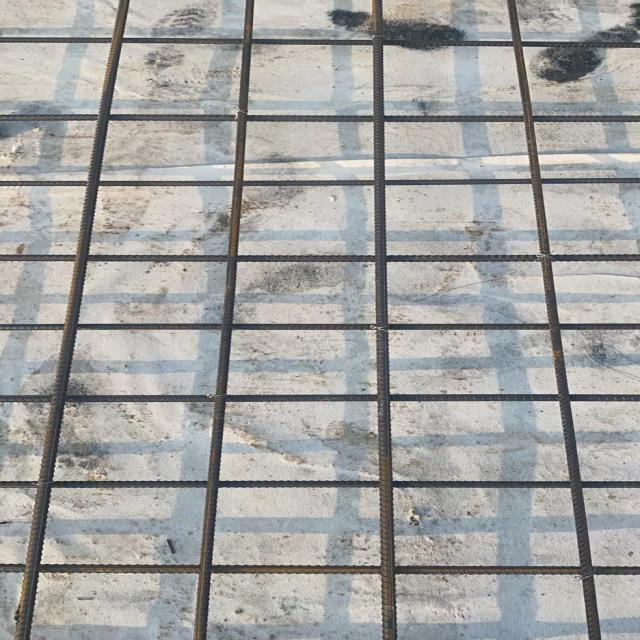ribbed bar: (11, 0, 130, 639), (505, 0, 602, 639), (191, 0, 254, 639), (369, 0, 395, 639), (0, 36, 639, 48), (0, 564, 639, 575), (0, 113, 639, 122), (0, 253, 639, 262), (0, 393, 639, 402), (0, 480, 639, 489), (0, 322, 639, 330), (0, 178, 639, 185)
